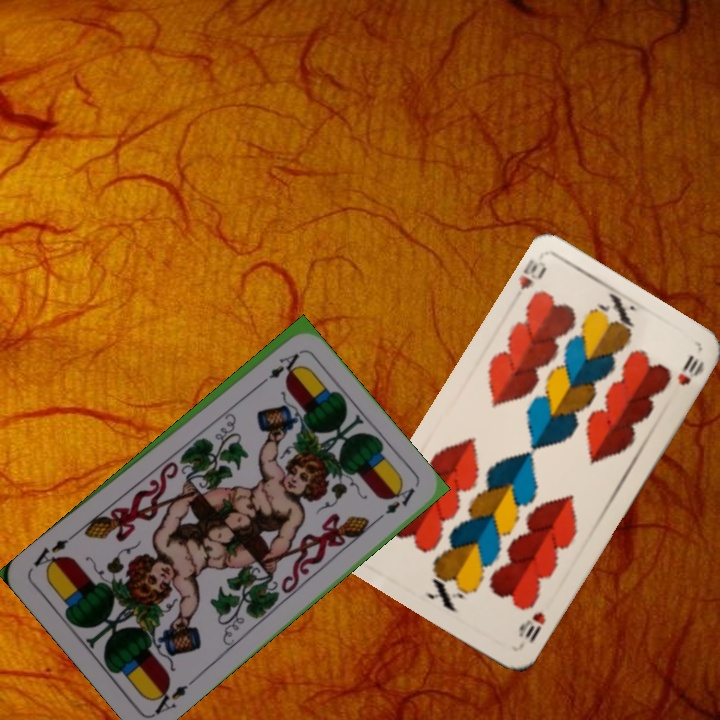EA: (147, 674, 198, 718), (252, 349, 302, 390)
H10: (514, 255, 550, 293), (514, 607, 549, 646)
